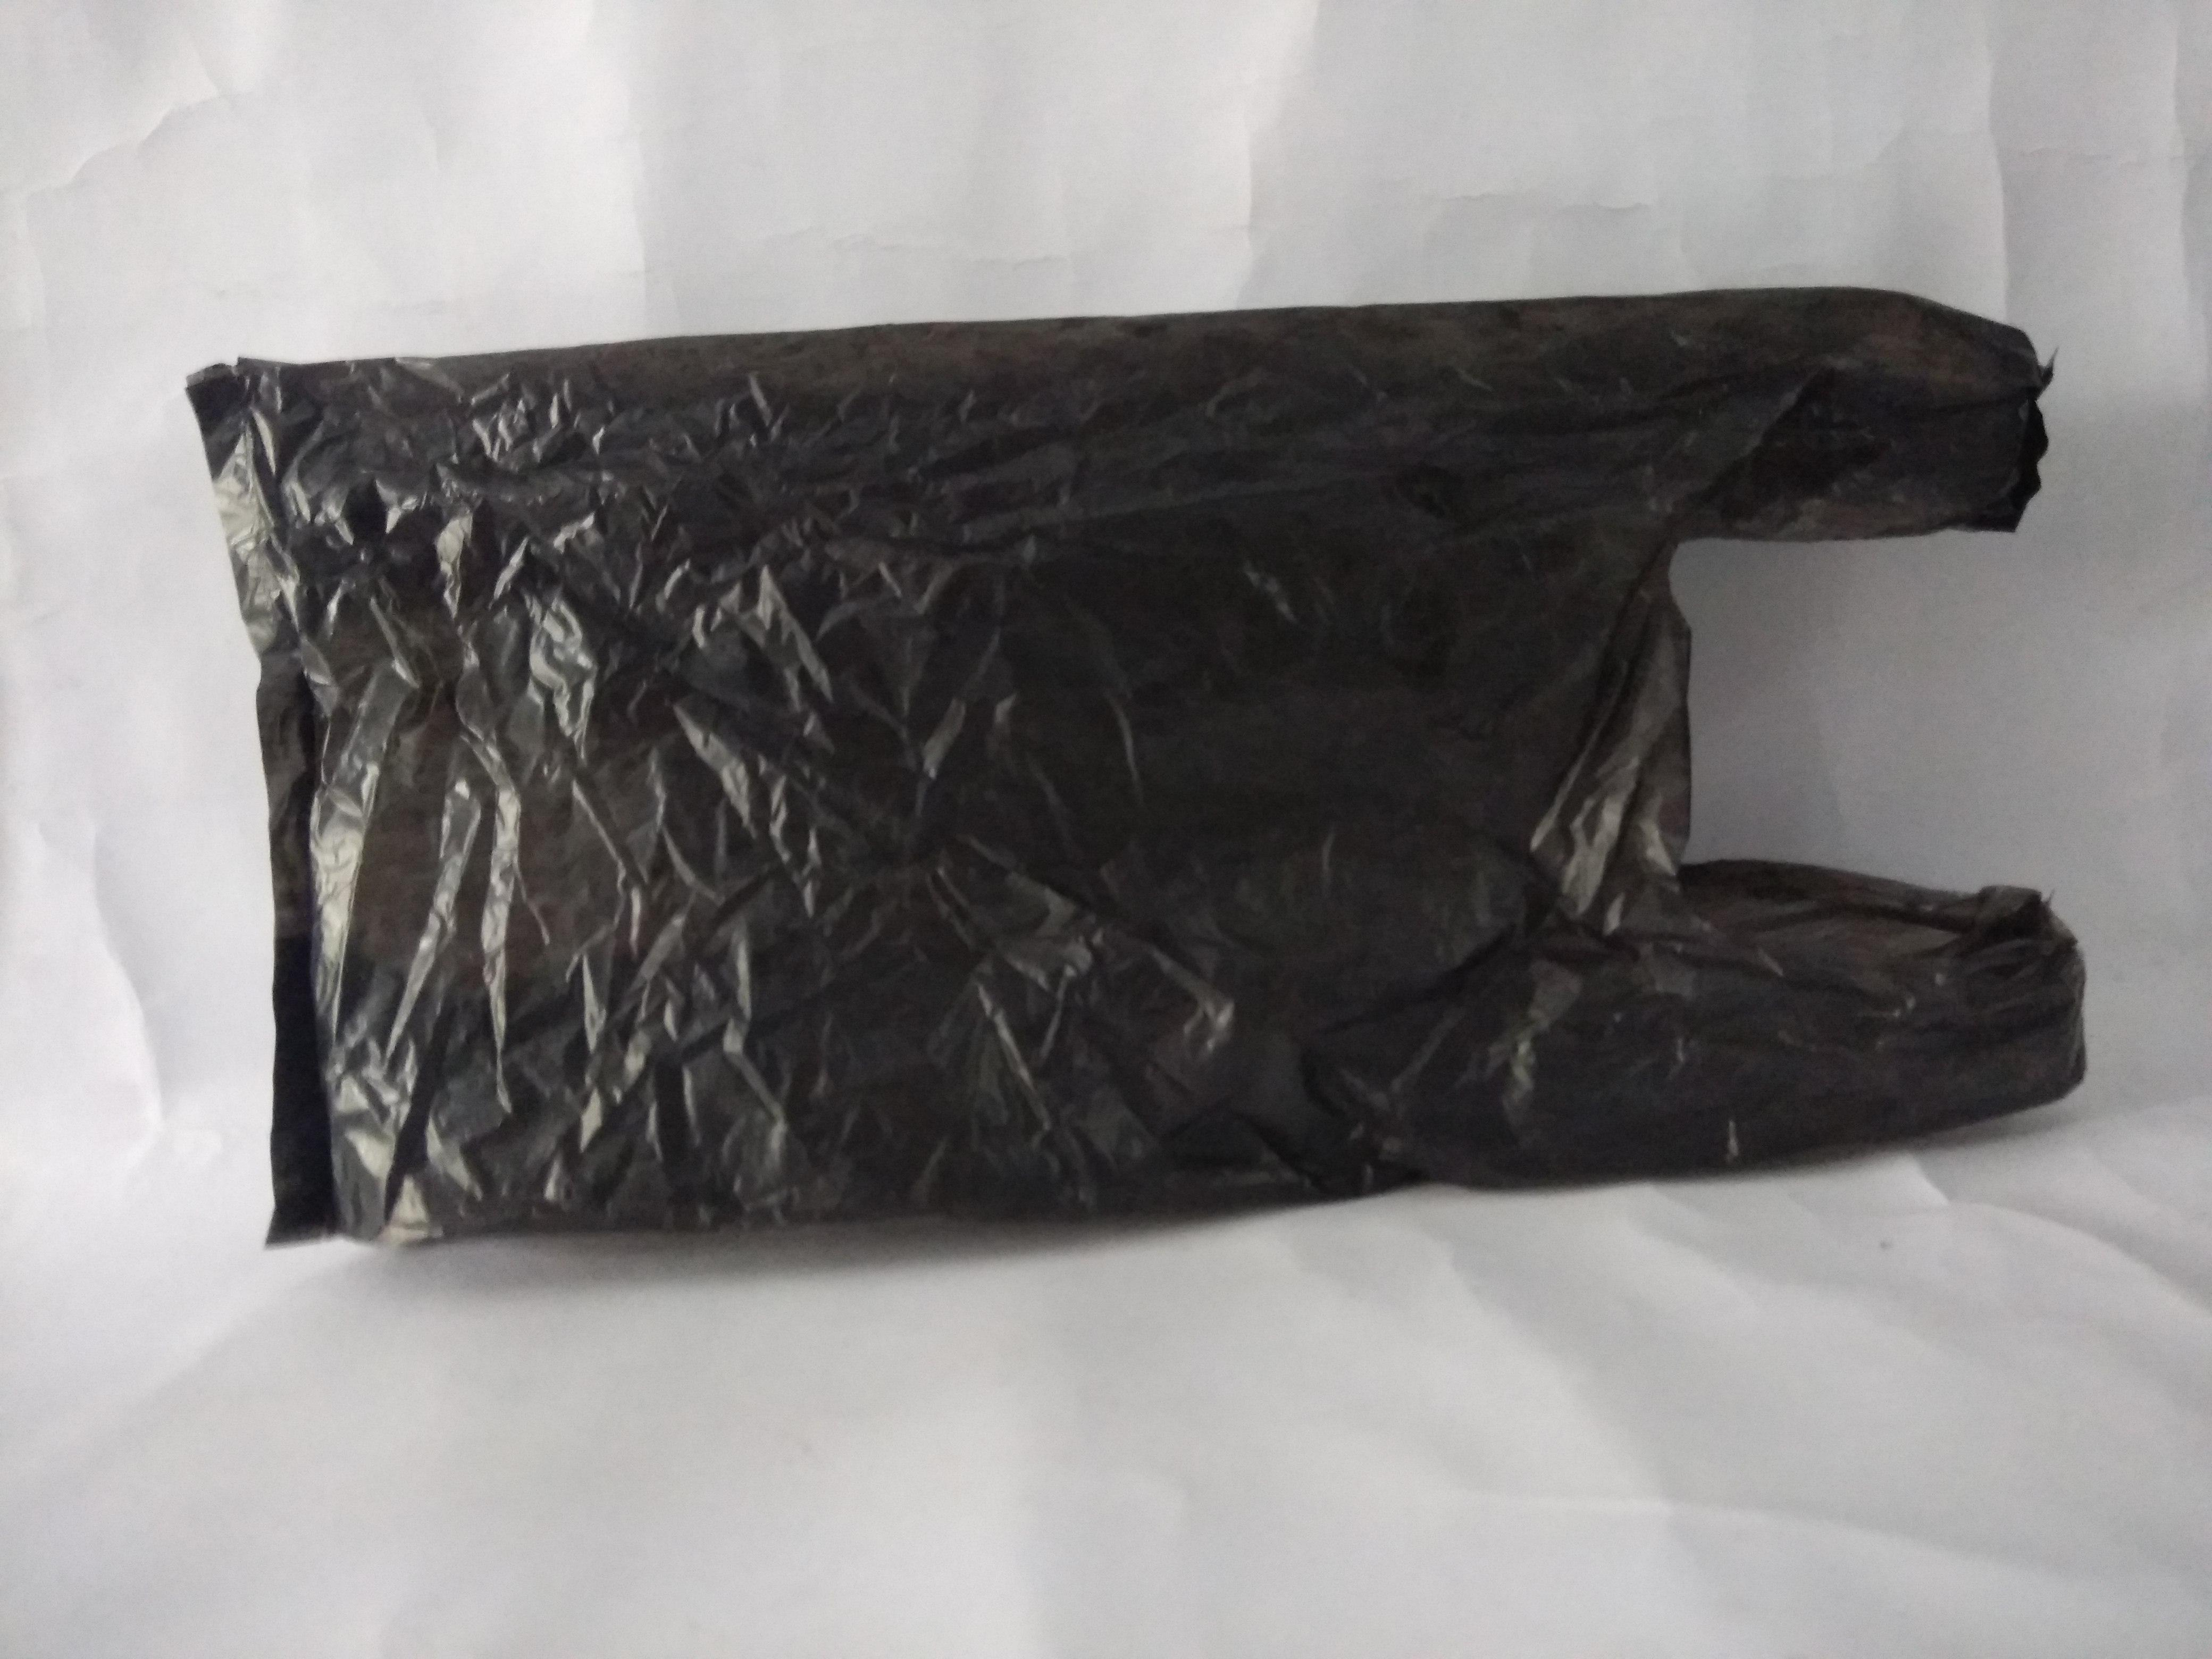LDPE: (77, 0, 2212, 1659)
